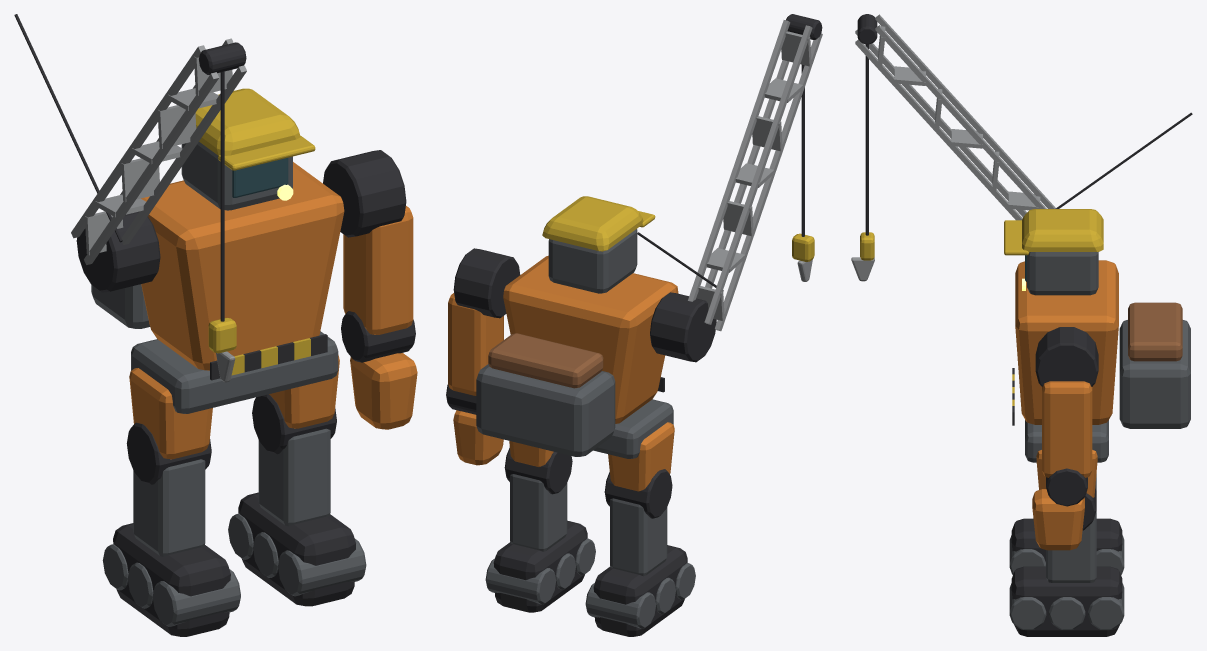
The model's file is guindaste.glb.
The picture shows the model from 3 angles, left to right: view 1: azimuth 30°, elevation 25°; view 2: azimuth 150°, elevation 25°; view 3: azimuth 270°, elevation 25°; orthographic projection. The views are drawn at different scales.
Visible parts, largest first — view 1: guindaste_16, guindaste_32, guindaste_15, guindaste_05, guindaste_12, guindaste_01, guindaste_08, guindaste_31, guindaste_28, guindaste_07, guindaste_34, guindaste_35 (+24 smaller); view 2: guindaste_16, guindaste_24, guindaste_25, guindaste_26, guindaste_28, guindaste_05, guindaste_12, guindaste_32, guindaste_35, guindaste_01, guindaste_08, guindaste_31 (+23 smaller); view 3: guindaste_16, guindaste_24, guindaste_32, guindaste_08, guindaste_28, guindaste_25, guindaste_31, guindaste_26, guindaste_34, guindaste_12, guindaste_38, guindaste_39 (+15 smaller).
Boxes of the visible parts, box(x1,y1,x2,y2) form: guindaste_16: box(141, 162, 344, 370); guindaste_32: box(343, 206, 413, 334); guindaste_15: box(131, 331, 338, 413); guindaste_05: box(133, 459, 205, 556); guindaste_12: box(258, 428, 330, 526); guindaste_01: box(113, 523, 230, 636); guindaste_08: box(238, 492, 355, 606); guindaste_31: box(323, 150, 406, 237); guindaste_28: box(195, 88, 300, 155); guindaste_07: box(129, 368, 212, 459); guindaste_34: box(350, 353, 417, 429); guindaste_35: box(76, 211, 160, 292); guindaste_16: box(503, 255, 678, 423); guindaste_24: box(476, 364, 615, 456); guindaste_25: box(488, 333, 603, 388); guindaste_26: box(548, 229, 637, 293); guindaste_28: box(542, 196, 643, 251); guindaste_05: box(610, 498, 667, 576); guindaste_12: box(510, 474, 567, 551); guindaste_32: box(448, 293, 503, 395); guindaste_35: box(650, 292, 716, 362); guindaste_01: box(593, 545, 687, 636); guindaste_08: box(493, 520, 587, 612); guindaste_31: box(453, 248, 520, 318); guindaste_16: box(1015, 260, 1118, 424); guindaste_24: box(1119, 320, 1190, 428); guindaste_32: box(1042, 381, 1092, 477); guindaste_08: box(1011, 566, 1122, 636); guindaste_28: box(1022, 209, 1103, 251); guindaste_25: box(1128, 302, 1182, 361); guindaste_31: box(1035, 327, 1098, 386); guindaste_26: box(1027, 252, 1098, 295); guindaste_34: box(1032, 489, 1084, 550); guindaste_12: box(1046, 511, 1096, 582); guindaste_38: box(875, 14, 1055, 208); guindaste_39: box(875, 25, 1046, 208).
Bounding box in the file's own units: 1.41 × 2.8 × 1.62.
